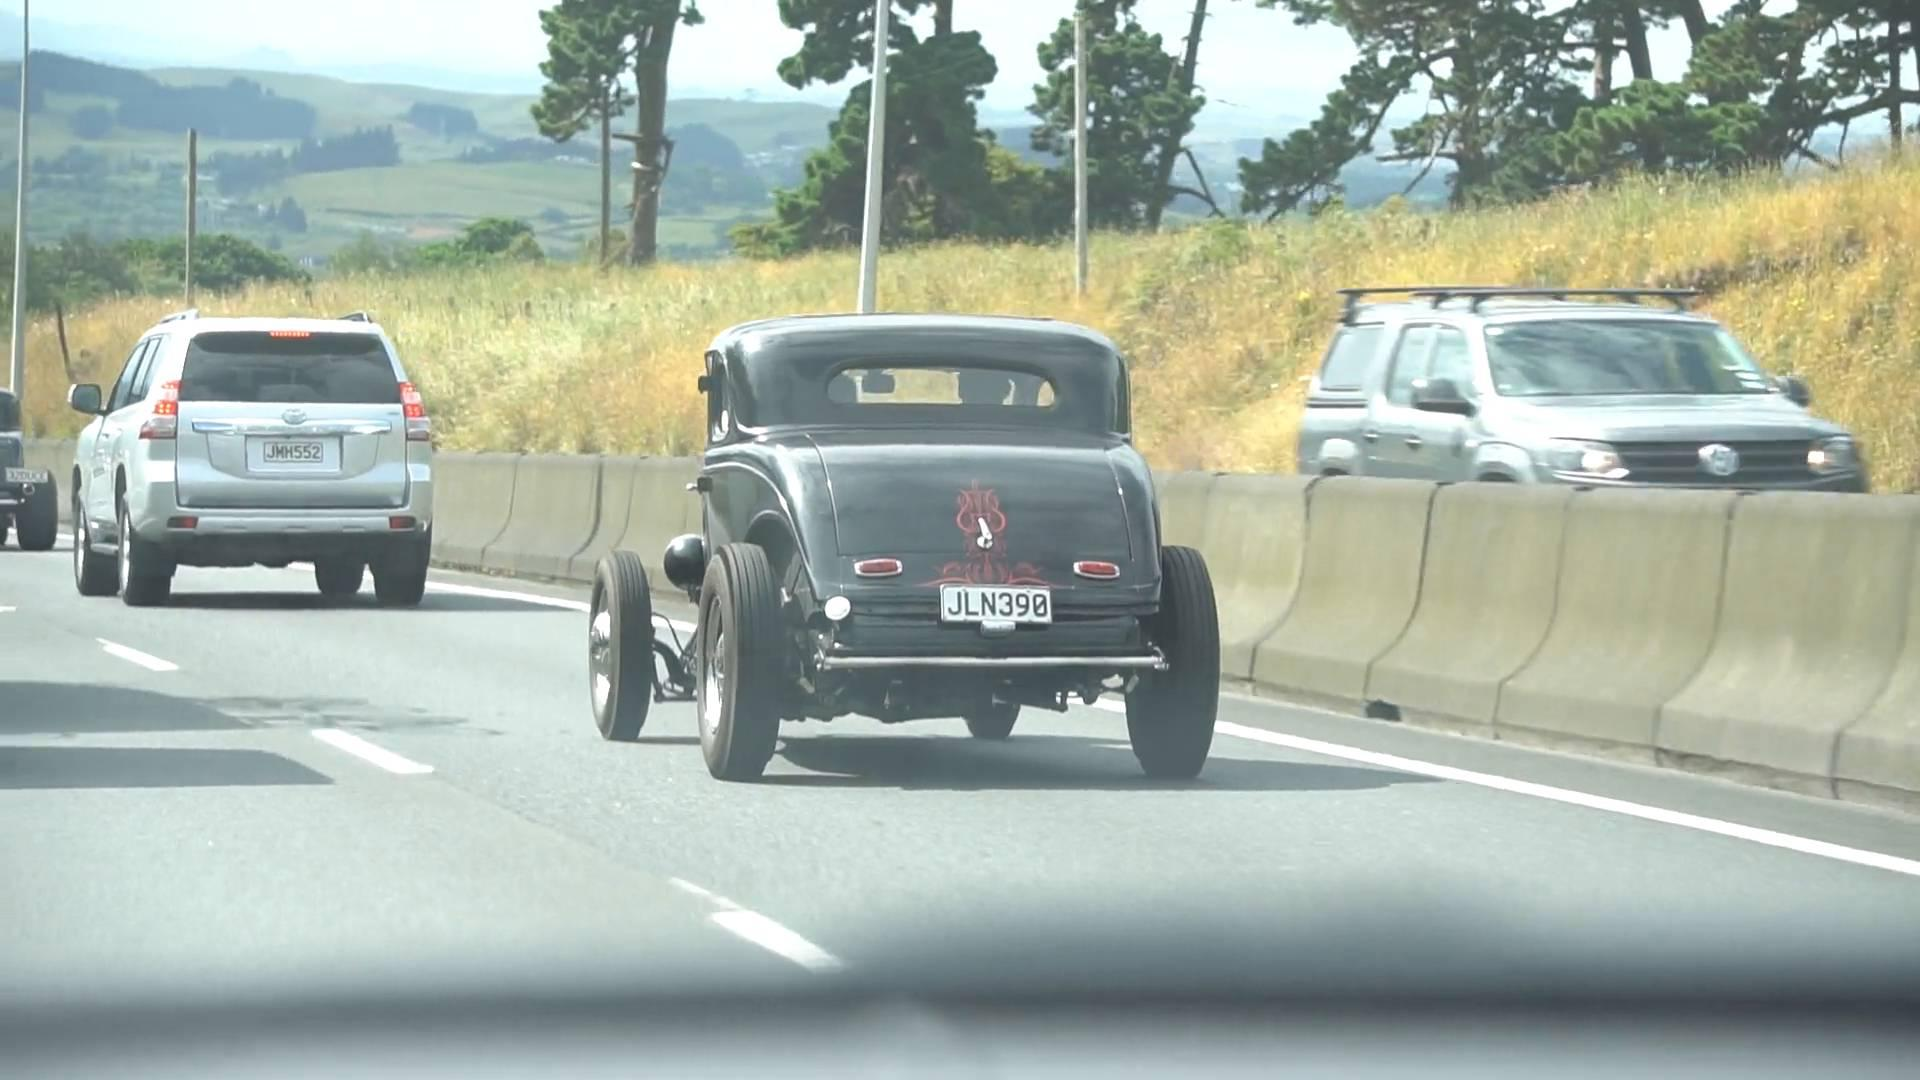car: (579, 287, 1225, 778), (59, 307, 438, 603)
license_plate: (938, 580, 1058, 627), (264, 434, 330, 457)
